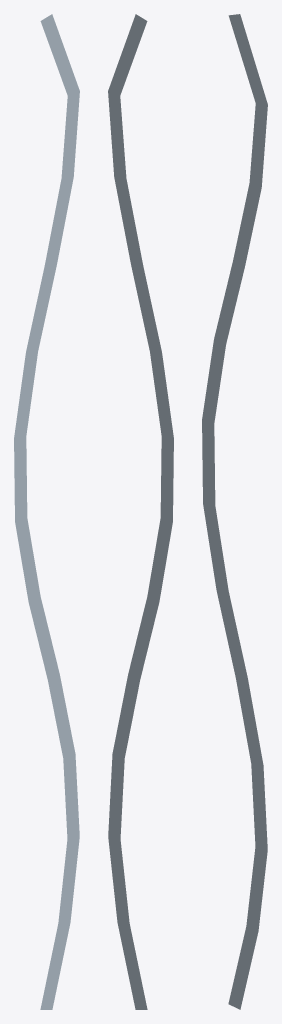
The model's file is 2065_Clap_ClampArc0.fbx.
The picture shows the model from 3 angles, left to right: view 1: azimuth 30°, elevation 25°; view 2: azimuth 150°, elevation 25°; view 3: azimuth 330°, elevation 25°; orthographic projection.
Visible parts, largest first — view 1: PART_ClampArc0; view 2: PART_ClampArc0; view 3: PART_ClampArc0.
Part boxes in pixels (x1,y1,x2,y2): PART_ClampArc0: (14, 14, 79, 1009); PART_ClampArc0: (108, 14, 173, 1009); PART_ClampArc0: (202, 14, 267, 1009).
Bounding box in the file's own units: 19.21 × 277 × 4.51e-05.
